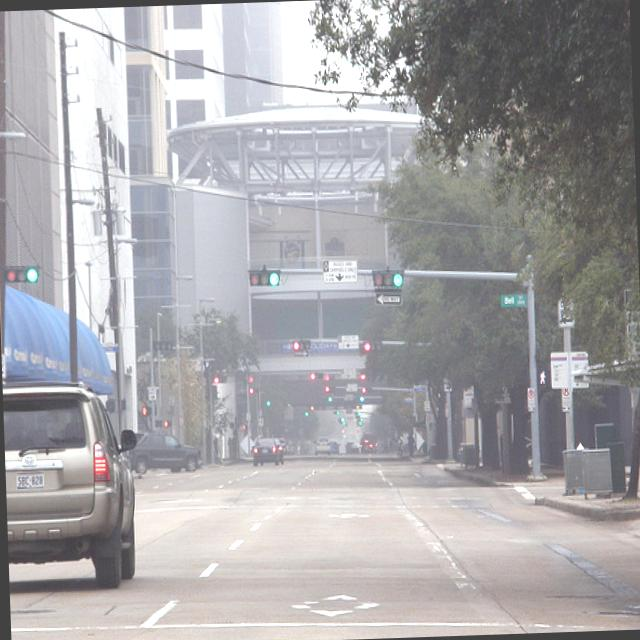Vehicle: (2, 376, 147, 592), (128, 428, 204, 474), (251, 438, 280, 468), (359, 432, 377, 454), (314, 436, 332, 456), (274, 436, 285, 466), (331, 439, 341, 454), (330, 441, 340, 454), (348, 444, 358, 454), (346, 442, 354, 452)
